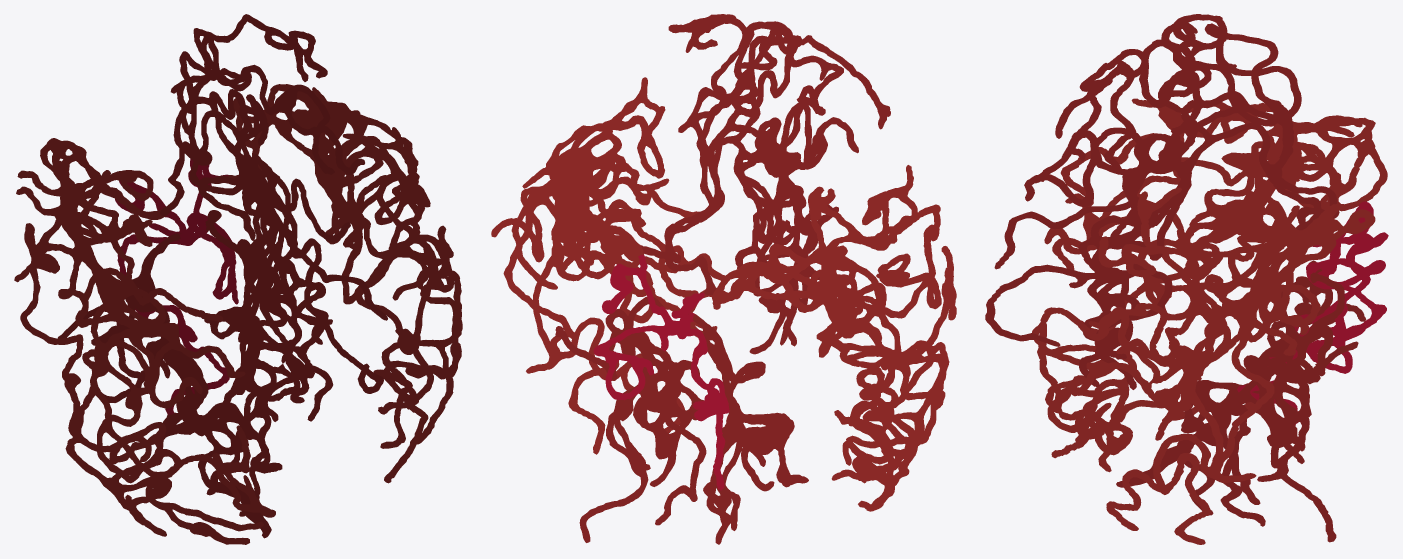
File: arterial-venat.glb
3 renders of one model, left to right at view 1: azimuth 30°, elevation 25°; view 2: azimuth 150°, elevation 25°; view 3: azimuth 270°, elevation 25°, orthographic. The views are drawn at different scales.
Visible parts, largest first — view 1: arterial-venat; view 2: arterial-venat; view 3: arterial-venat.
Part boxes in pixels (box(x1,y1,x2,y2)): arterial-venat: box(14, 14, 462, 544); arterial-venat: box(491, 14, 956, 544); arterial-venat: box(985, 14, 1388, 544).
Size of the model in its own units: 134 by 166 by 123.
